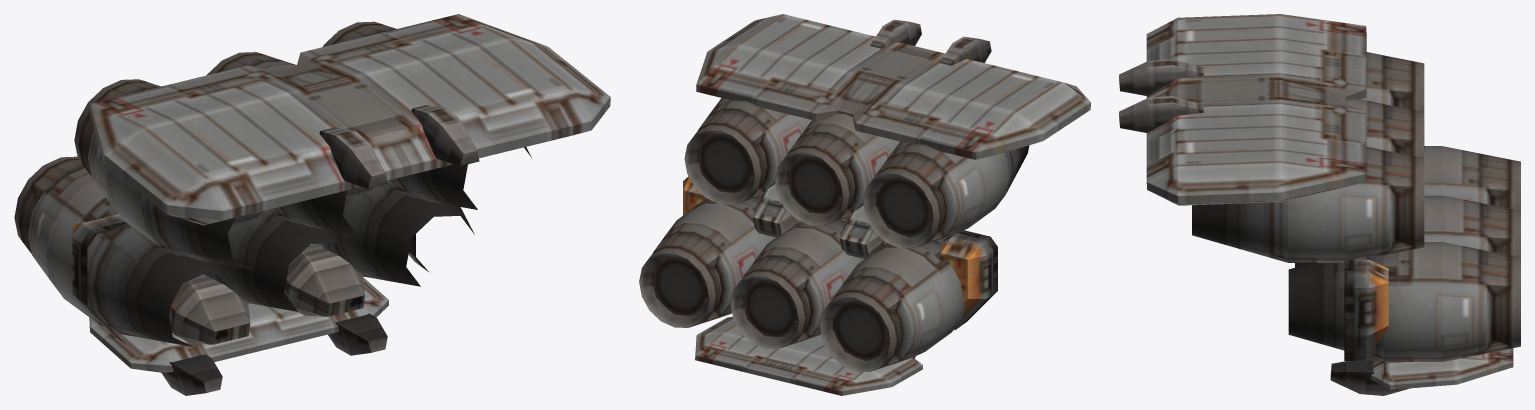
Rendered from hgn_fs_carrier_04_ion_engine_l.glb.
The picture shows the model from 3 angles, left to right: view 1: azimuth 30°, elevation 25°; view 2: azimuth 150°, elevation 25°; view 3: azimuth 270°, elevation 25°; orthographic projection. The views are drawn at different scales.
Parts seen in each view (by area): view 1: hgn_fs_carrier_04_engine_01_l; view 2: hgn_fs_carrier_04_engine_01_l; view 3: hgn_fs_carrier_04_engine_01_l.
Boxes of the visible parts, bbox=[...] form: hgn_fs_carrier_04_engine_01_l: bbox=[14, 14, 610, 395]; hgn_fs_carrier_04_engine_01_l: bbox=[639, 14, 1090, 395]; hgn_fs_carrier_04_engine_01_l: bbox=[1119, 14, 1520, 395].
Bounding box in the file's own units: 2.11 × 1.53 × 2.01.
Materials: 1 (1 with a texture image).
